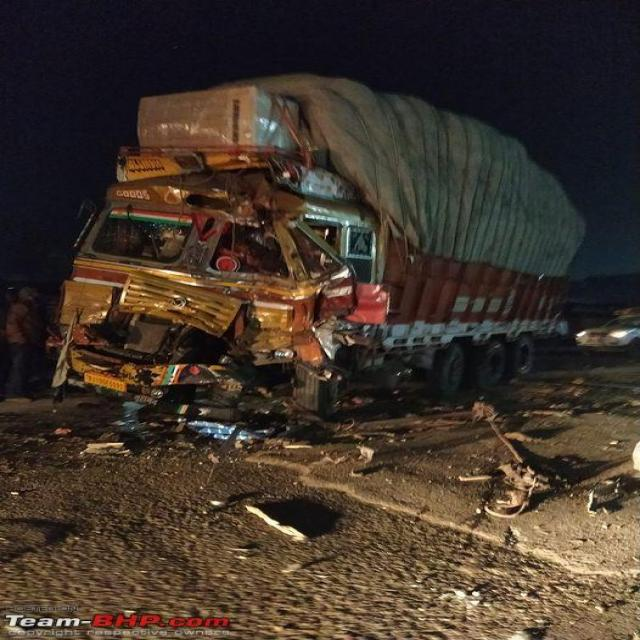accident: (54, 75, 585, 422)
